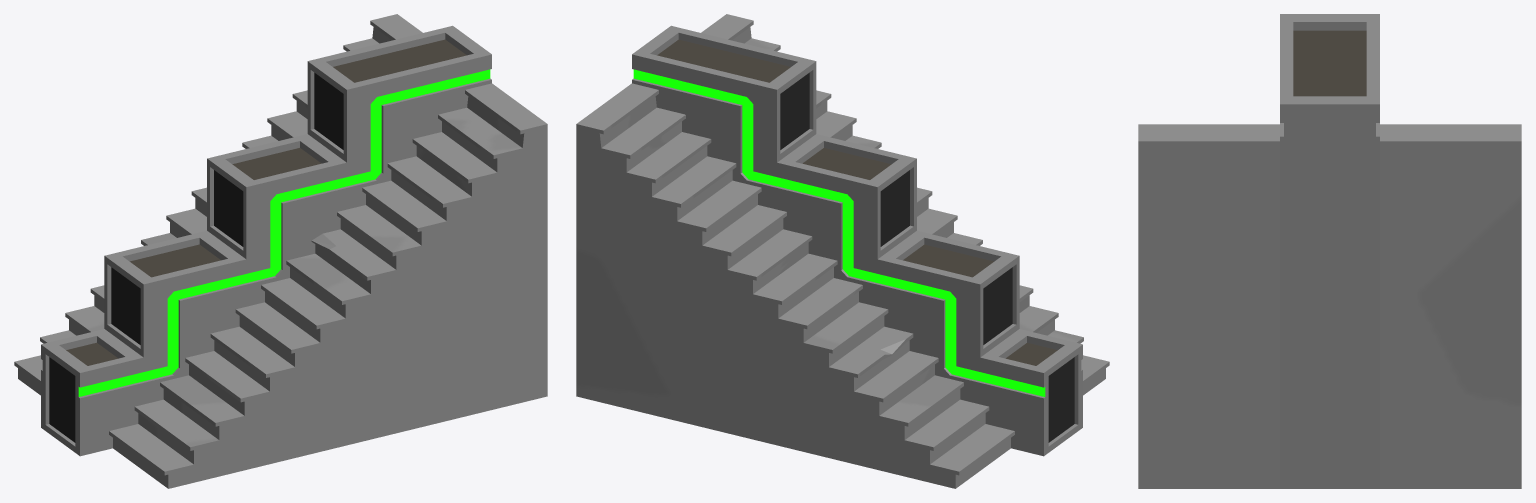
The model's file is Stairs_01.FBX.
3 views of the same model, side by side, from view 1: azimuth 30°, elevation 25°; view 2: azimuth 150°, elevation 25°; view 3: azimuth 270°, elevation 25° (orthographic). The views are drawn at different scales.
Parts seen in each view (by area): view 1: Stairs_01_LOD0, Stairs_01_Deco_LOD0; view 2: Stairs_01_LOD0, Stairs_01_Deco_LOD0; view 3: Stairs_01_LOD0, Stairs_01_Deco_LOD0.
Part boxes in pixels (x1=…): Stairs_01_LOD0: x1=14, y1=14, x2=547, y2=488; Stairs_01_Deco_LOD0: x1=41, y1=25, x2=491, y2=456; Stairs_01_LOD0: x1=576, y1=14, x2=1109, y2=488; Stairs_01_Deco_LOD0: x1=632, y1=25, x2=1082, y2=456; Stairs_01_LOD0: x1=1138, y1=124, x2=1521, y2=488; Stairs_01_Deco_LOD0: x1=1280, y1=14, x2=1379, y2=488.
Size of what is drawn, in the model's own units: 285 by 199 by 180.
